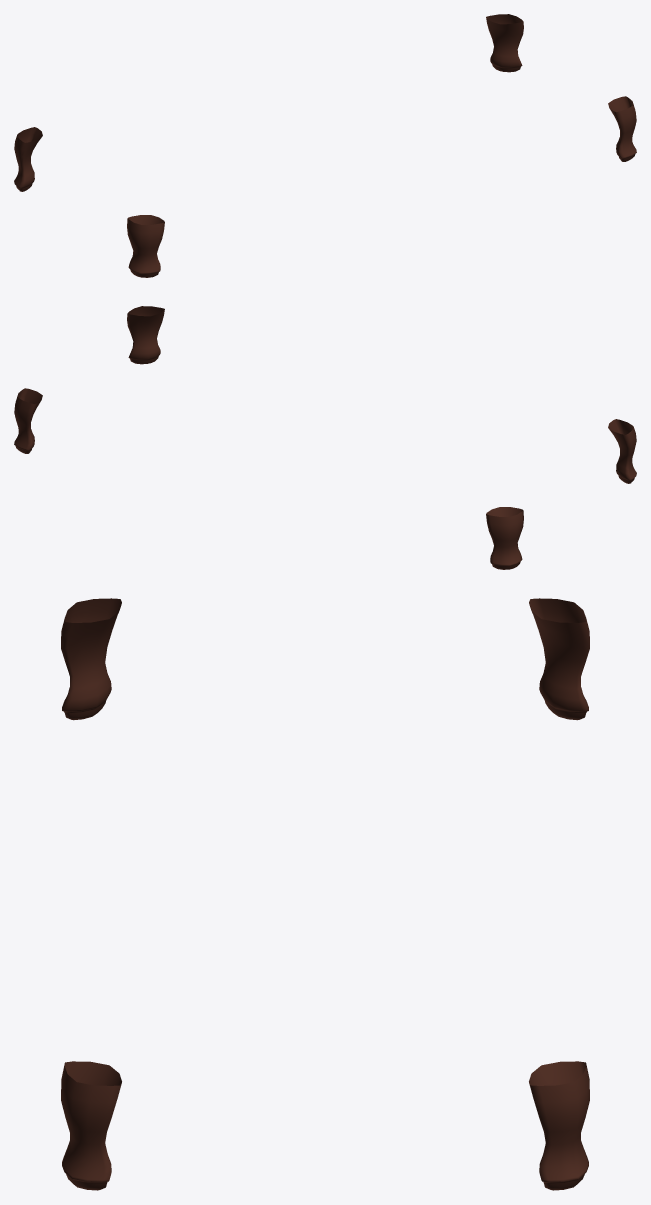
The model's file is Meuble_Chambre_Adulte.fbx.
The picture shows the model from 3 angles, top to bottom: view 1: azimuth 30°, elevation 25°; view 2: azimuth 150°, elevation 25°; view 3: azimuth 270°, elevation 25°; orthographic projection. The views are drawn at different scales.
Parts seen in each view (by area): view 1: Plane.002; view 2: Plane.002; view 3: Plane.002.
Boxes of the visible parts, <box> form: Plane.002: <box>14,14,636,277</box>; Plane.002: <box>14,306,636,569</box>; Plane.002: <box>61,598,589,1190</box>.
Size of the model in its own units: 9283 by 956 by 4228.
